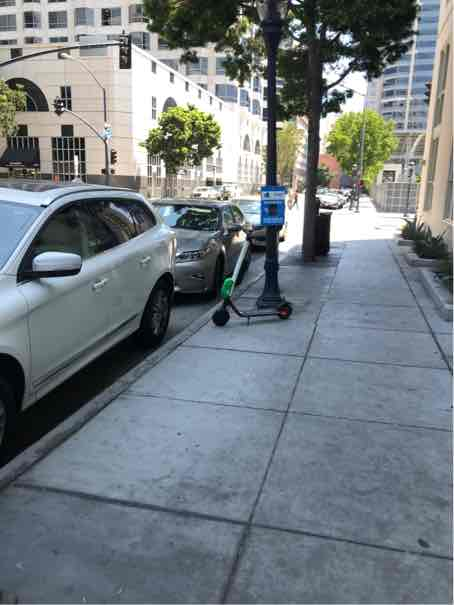scooter: (223, 227, 283, 321)
